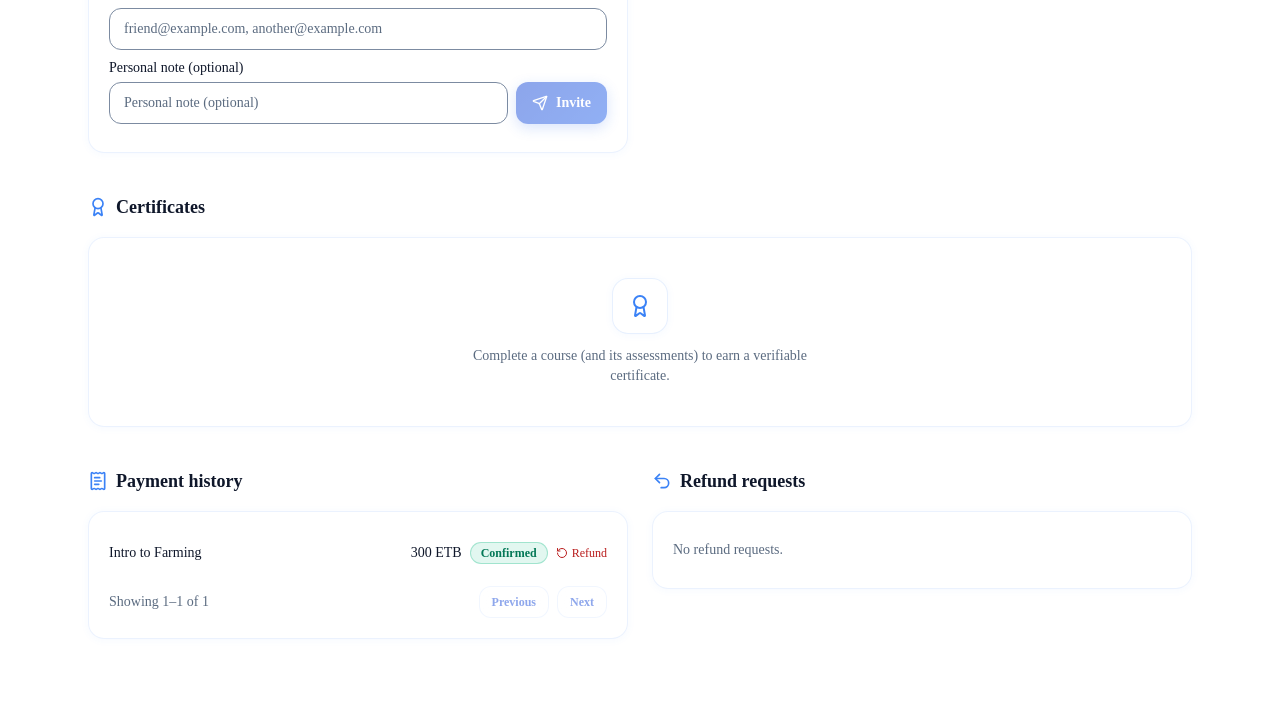
Test: Learner dashboard refund › sends the trimmed reason and reports the outcome politely
(page scrolled)
Click the button "Refund" at (581,553), box [556, 545, 607, 561]
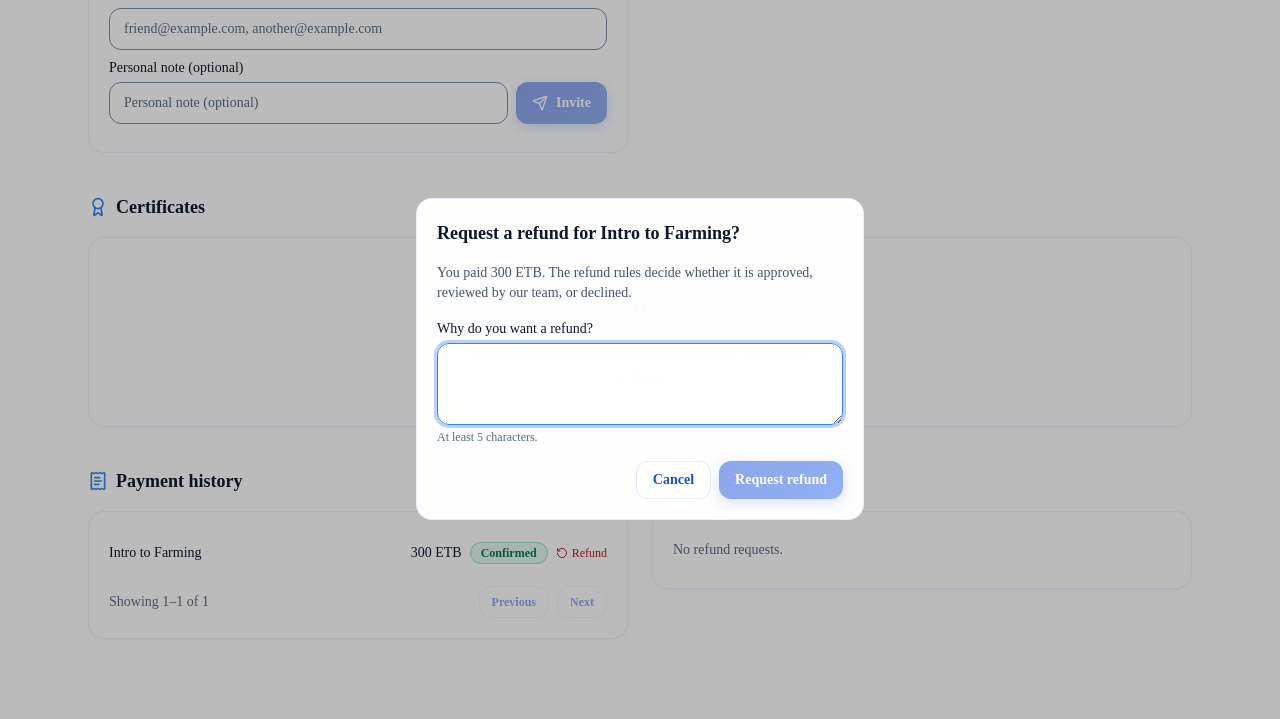
Type "  Wrong course  " into the text box labelled "Why do you want a refund?" at (640,384), box [437, 343, 843, 425]
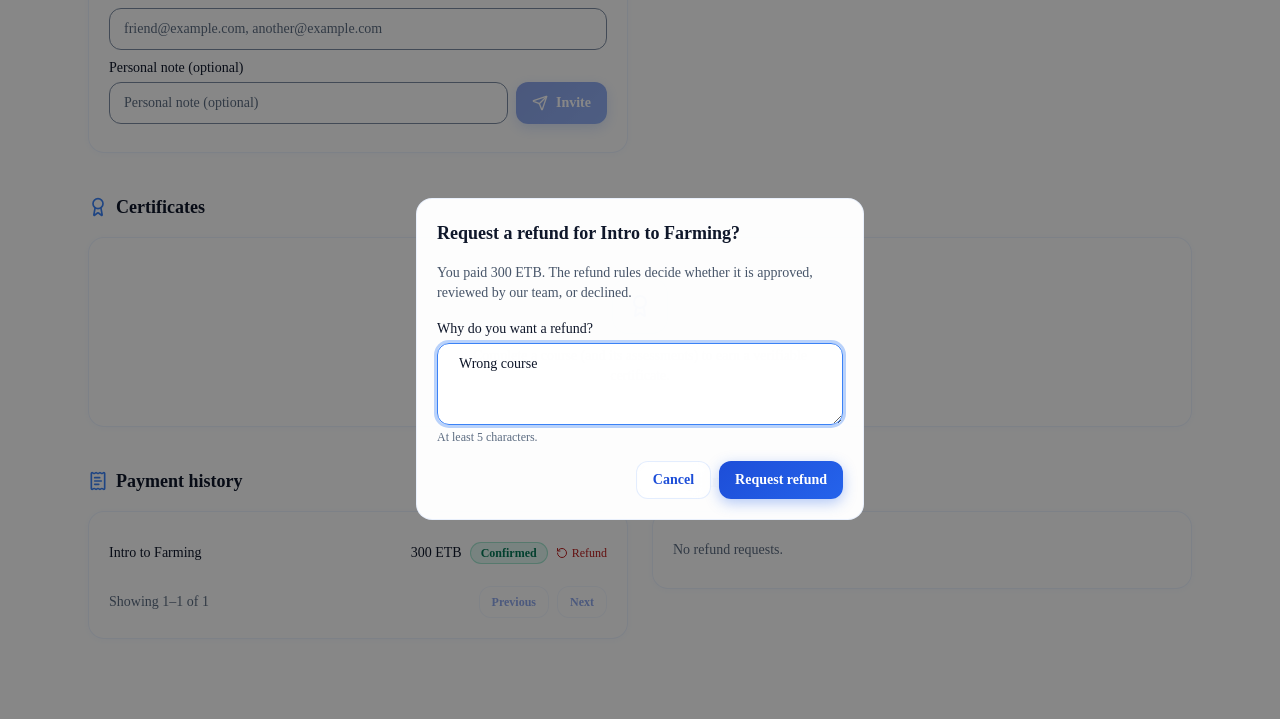
Click the button "Request refund" at (781,480), box [719, 461, 843, 499]
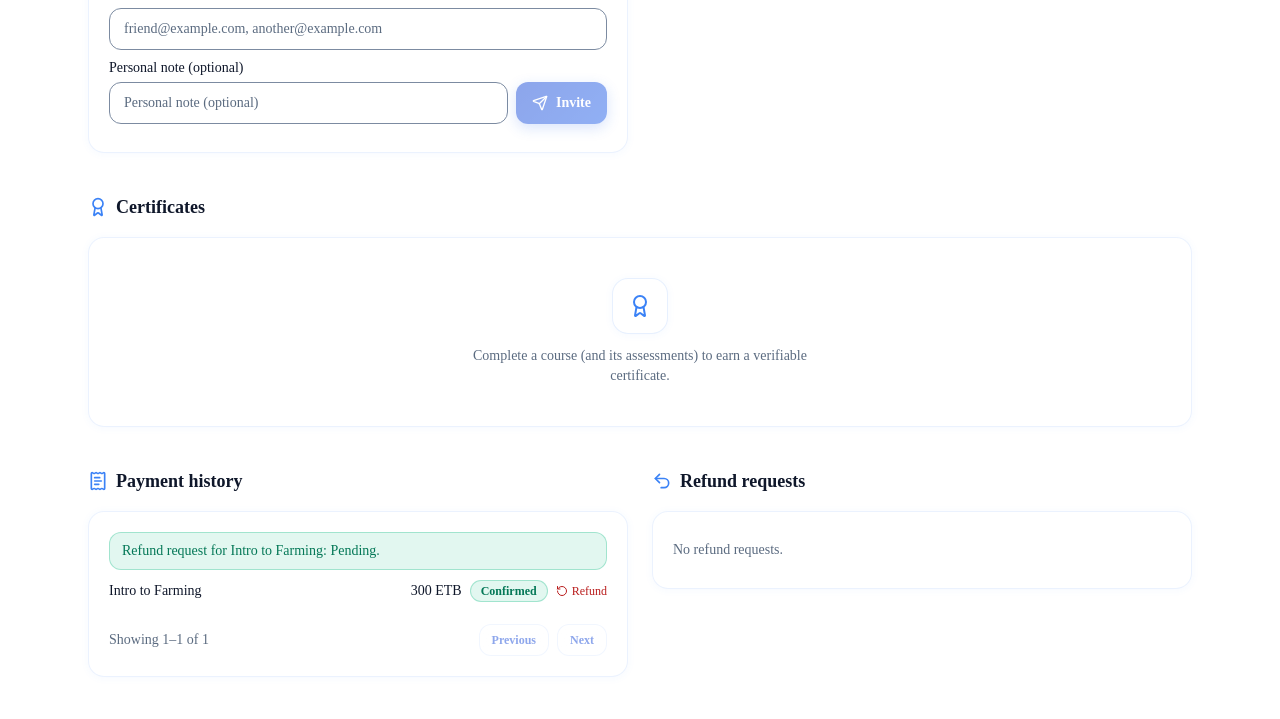
Now the text "Refund request for Intro to Farming: Pending." is shown, box [109, 532, 607, 570]
